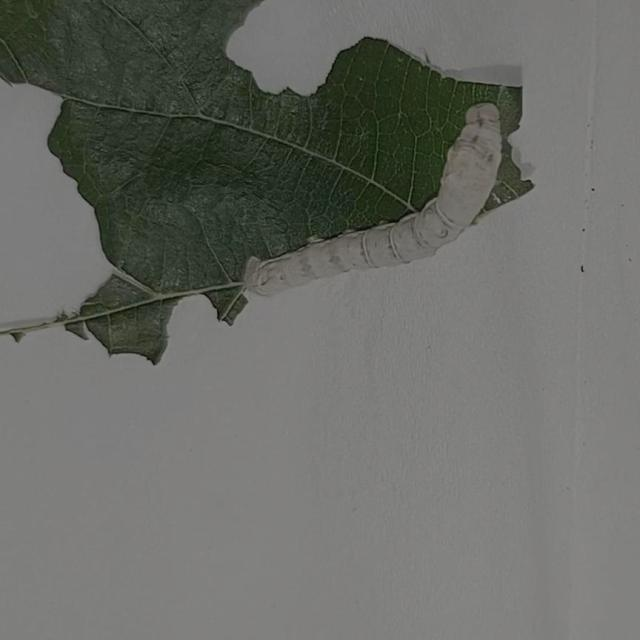Healthy: (200, 80, 533, 320)
